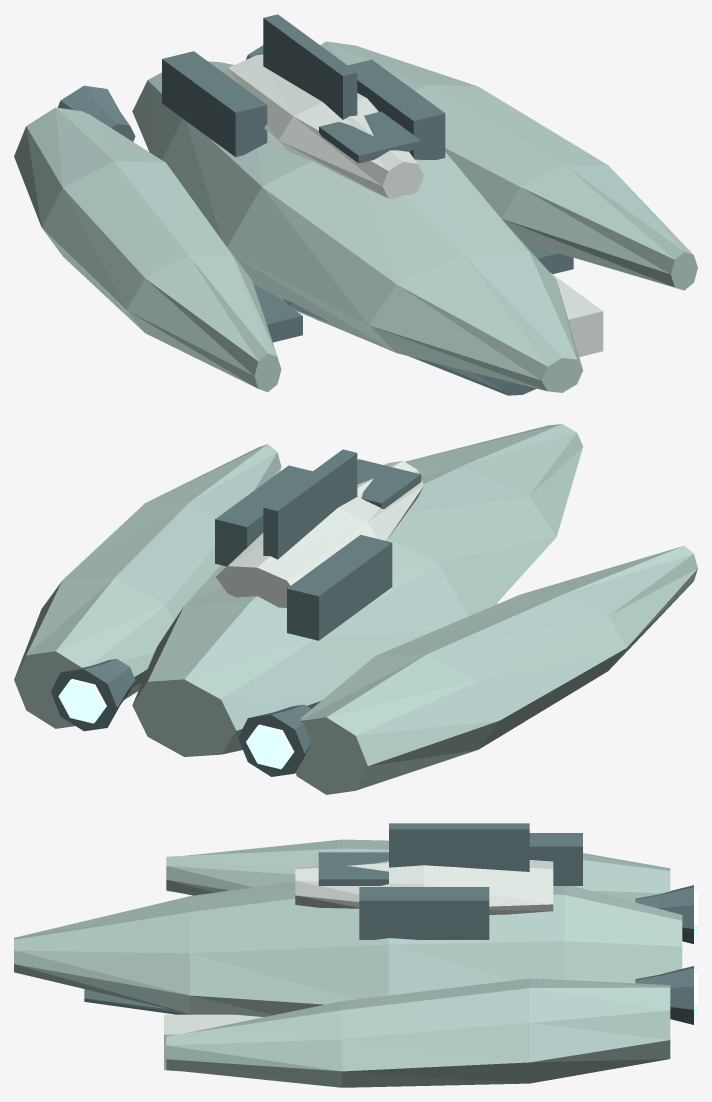
3 views of the same model, one above another, from view 1: azimuth 30°, elevation 25°; view 2: azimuth 150°, elevation 25°; view 3: azimuth 270°, elevation 25° (orthographic). The views are drawn at different scales.
Bounding box in the file's own units: 9.41 × 4.02 × 12.62.
